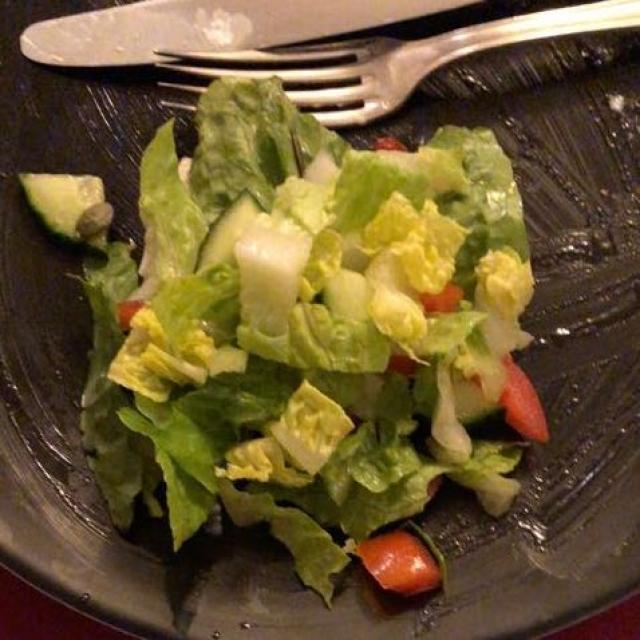salad: (66, 92, 543, 592)
tomato: (356, 248, 559, 612)
